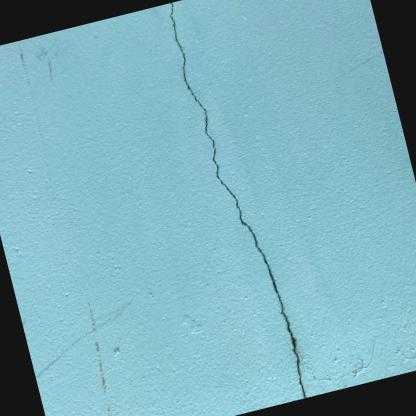crack: (169, 2, 307, 399)
